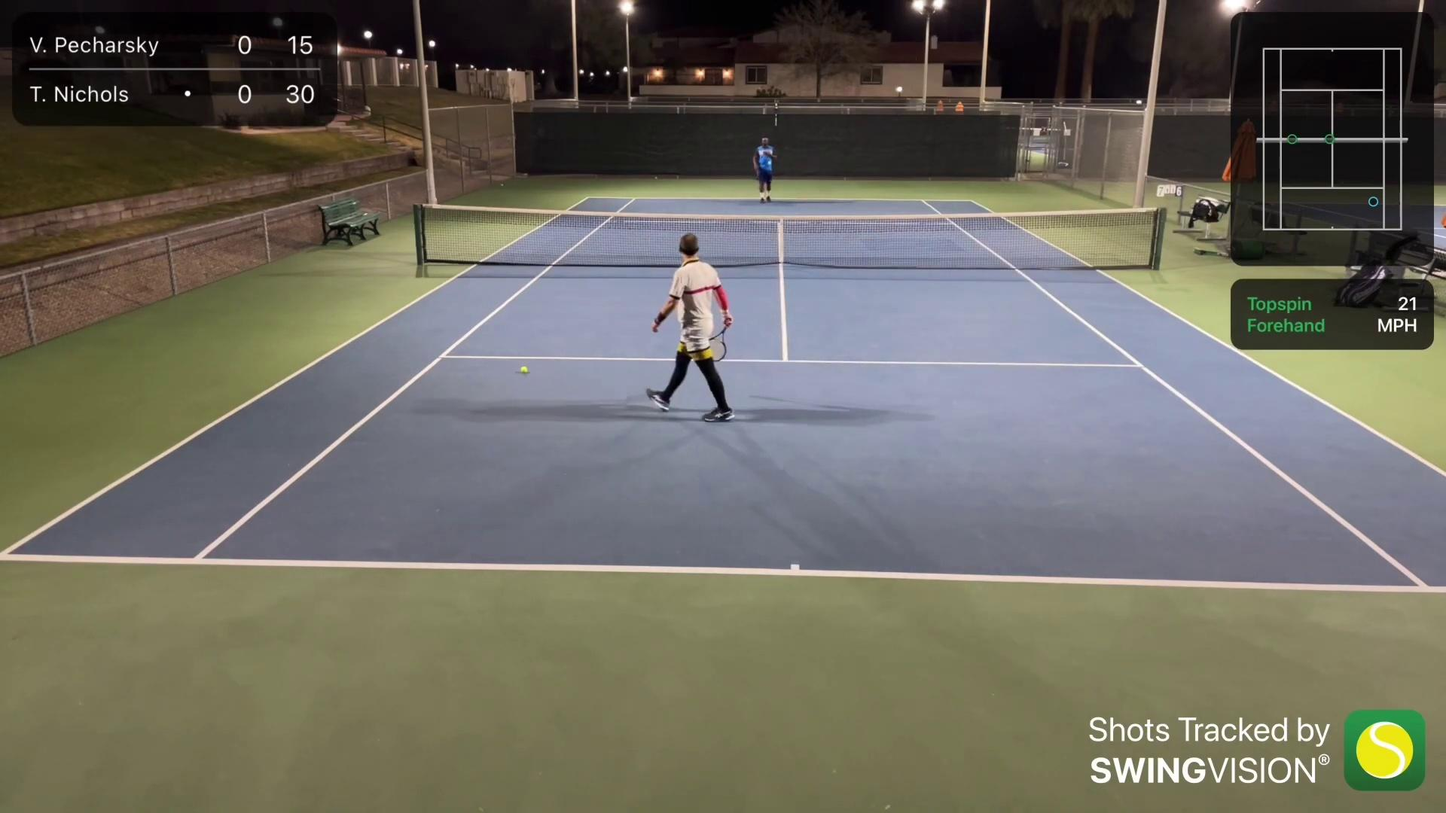ball: (518, 366, 529, 373), (766, 160, 772, 166)
